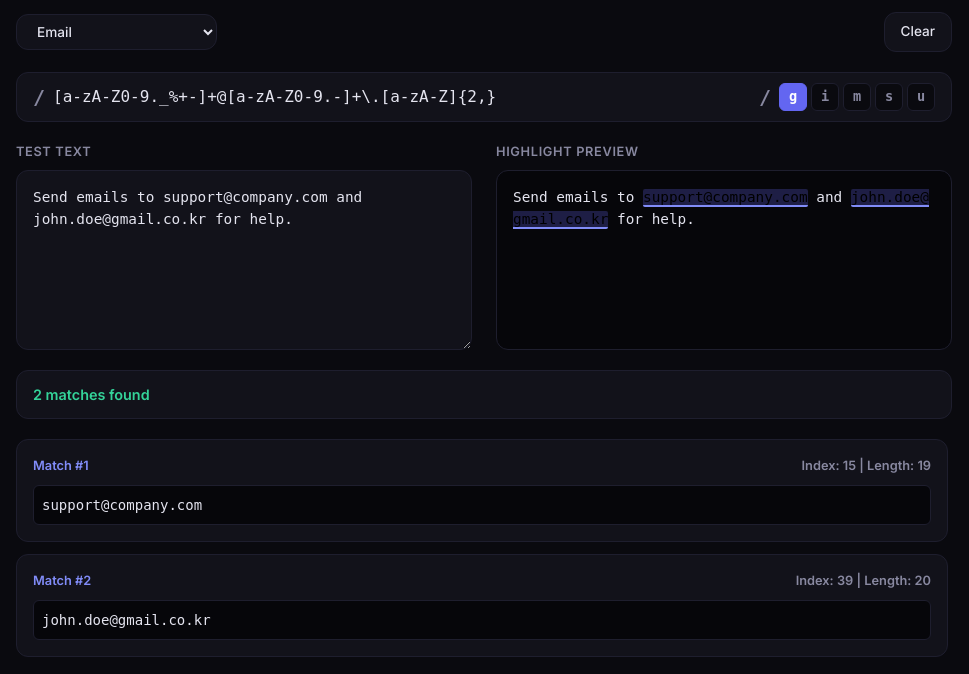
Test: RegexTool Component › toggles flags correctly
This screenshot has width=969, height=674.
# Turn off 'g' flag
Click the button named "Toggle flag g". click: (793, 97)
box: [779, 83, 807, 111]
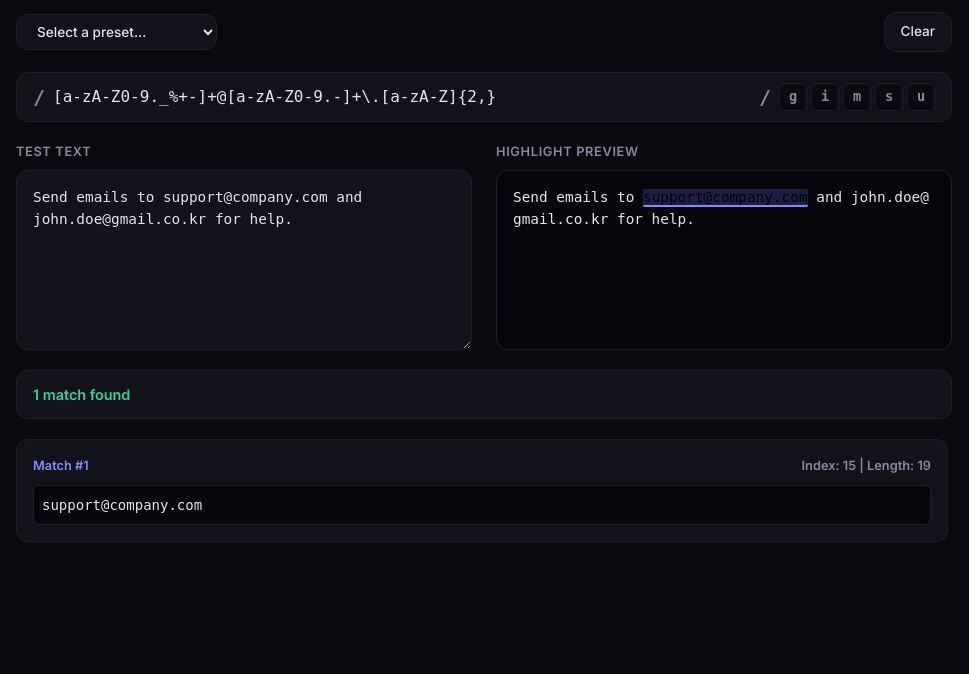
Result: the text "1 match found" is shown at [33, 383, 130, 406]
# Turn 'g' flag back on
Click the button named "Toggle flag g". click: (793, 97)
box: [779, 83, 807, 111]
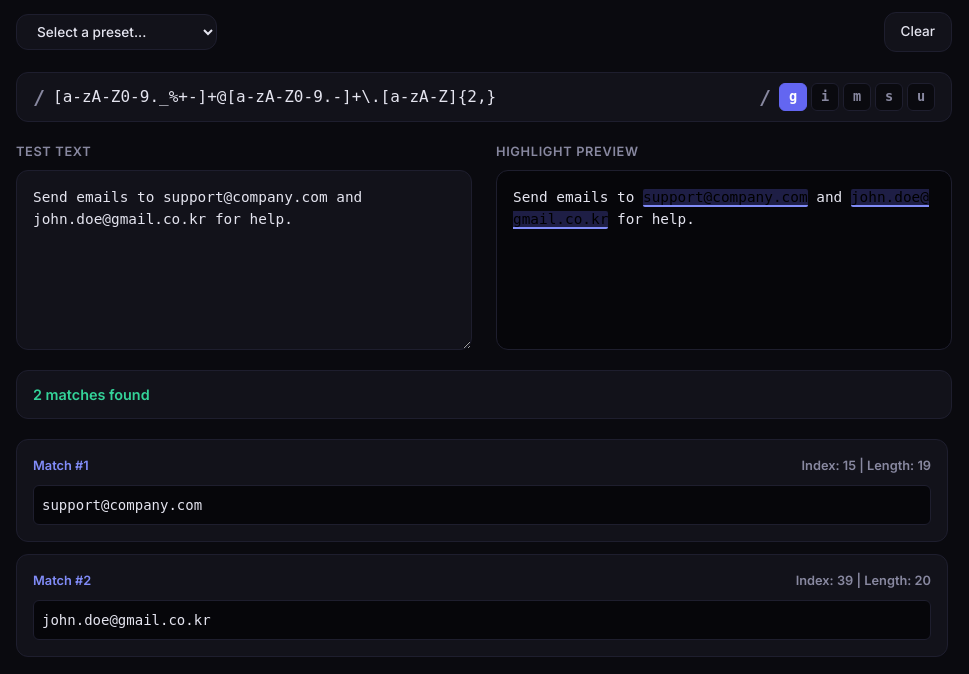
Result: the text "2 matches found" is shown at [33, 383, 150, 406]
